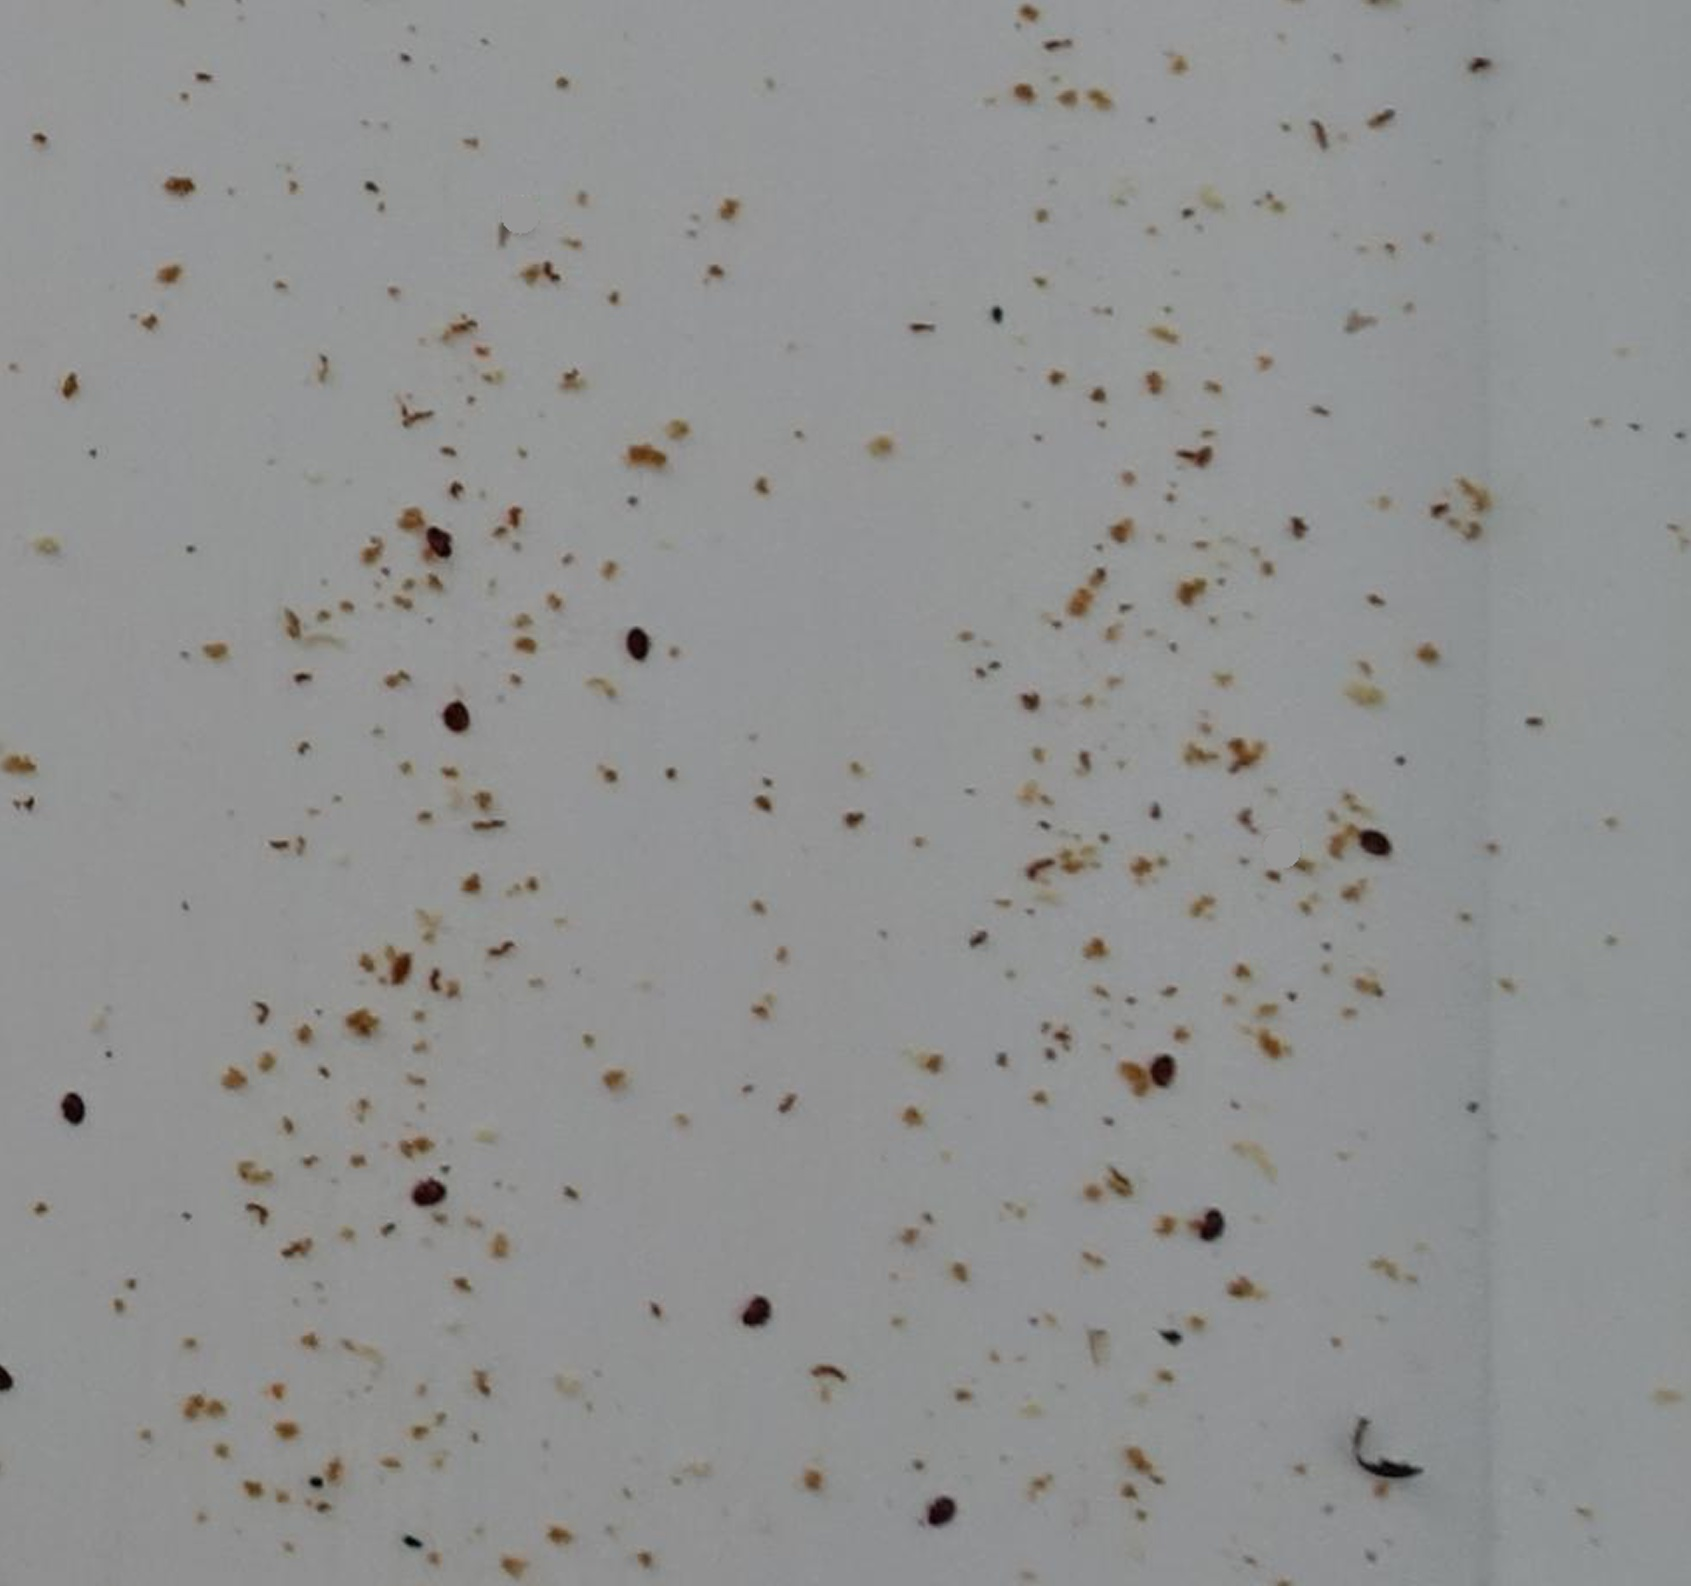Varroa: (406, 1173, 437, 1203), (928, 1497, 957, 1526), (740, 1298, 766, 1328), (443, 701, 470, 729), (622, 626, 650, 653), (58, 1096, 85, 1124), (1353, 830, 1379, 857), (1197, 1212, 1223, 1239), (1150, 1058, 1174, 1085), (423, 531, 449, 555)
